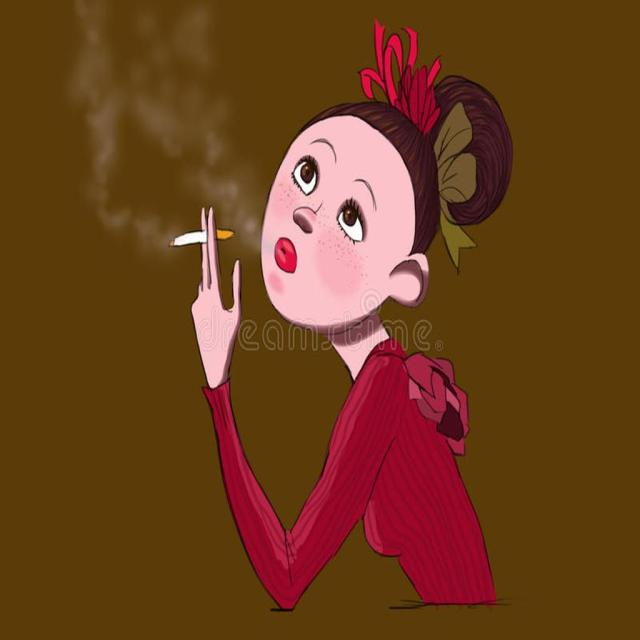smoking: (167, 96, 427, 394)
